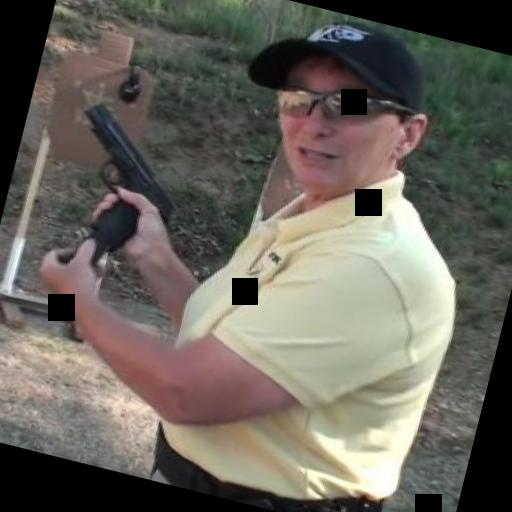Handgun: (46, 94, 194, 264)
